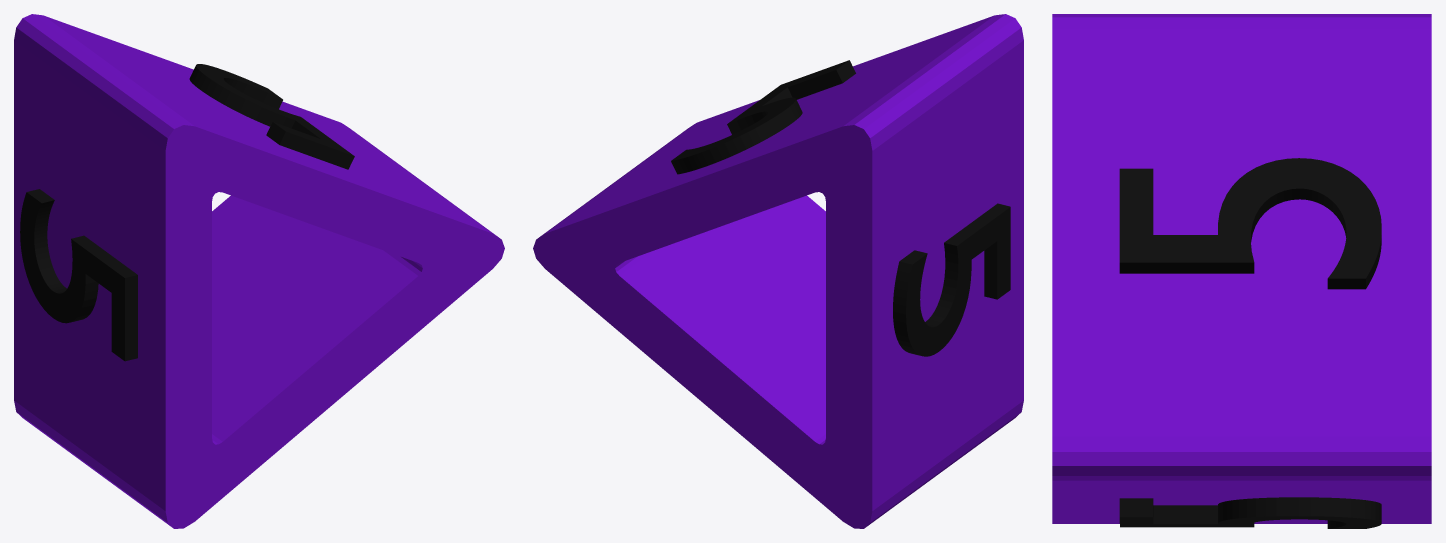
The model's file is Five_shadow.OBJ.
3 views of the same model, side by side, from view 1: azimuth 30°, elevation 25°; view 2: azimuth 150°, elevation 25°; view 3: azimuth 270°, elevation 25° (orthographic). The views are drawn at different scales.
Parts seen in each view (by area): view 1: /ambf/icl/Five_shadow_PuzzleRed5; view 2: /ambf/icl/Five_shadow_PuzzleRed5; view 3: /ambf/icl/Five_shadow_PuzzleRed5.
Boxes of the visible parts, box(x1,y1,x2,y2) form: /ambf/icl/Five_shadow_PuzzleRed5: box(14, 14, 504, 528); /ambf/icl/Five_shadow_PuzzleRed5: box(533, 14, 1023, 528); /ambf/icl/Five_shadow_PuzzleRed5: box(1052, 14, 1431, 528).
Size of the model in its own units: 0.1305 by 0.1426 by 0.097.
